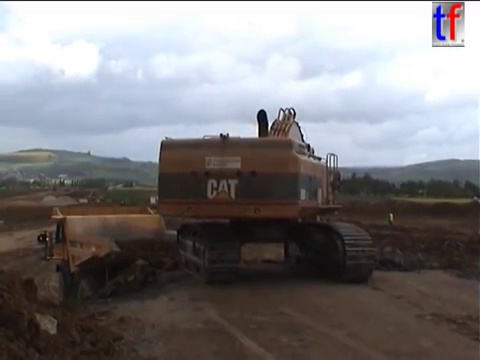excavator: (153, 103, 380, 287), (82, 188, 109, 206)
truck: (35, 202, 219, 309), (49, 184, 59, 193), (63, 186, 71, 194)
worker: (385, 208, 397, 229)
